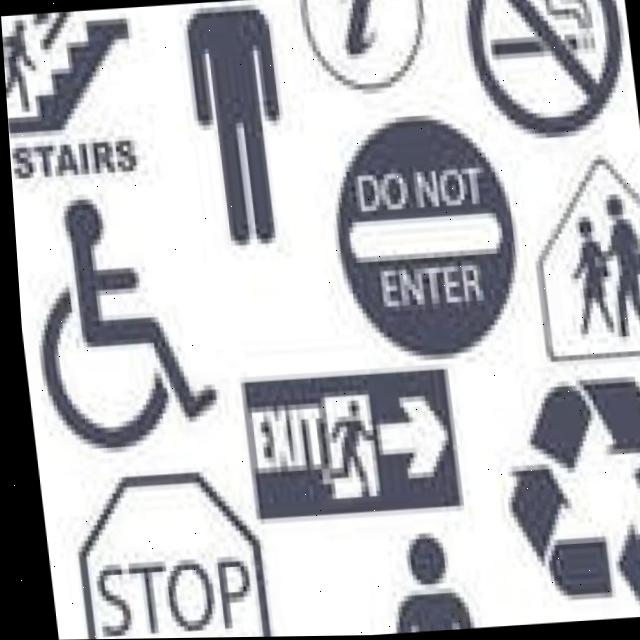symbol_of_access: (17, 186, 220, 458)
